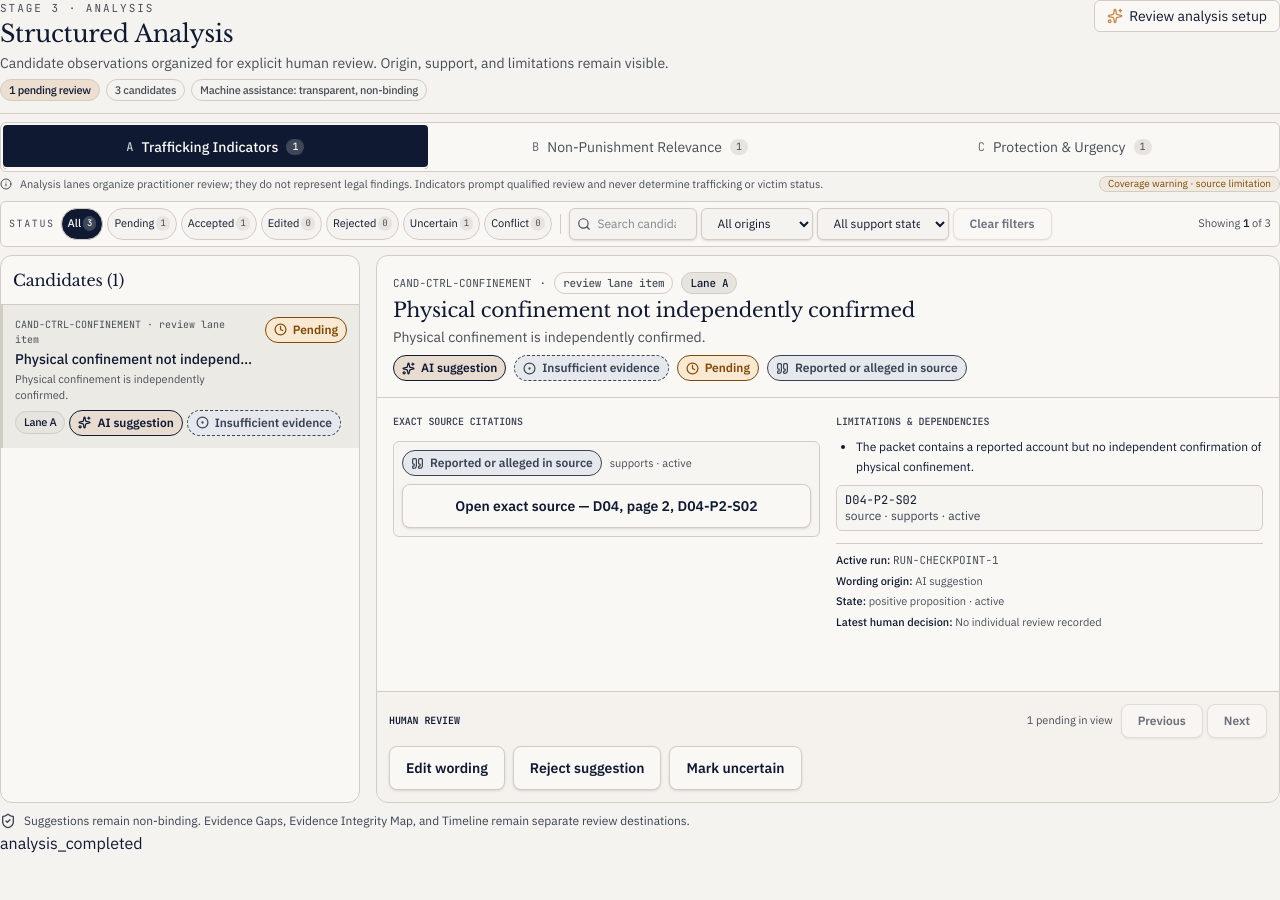
it: Phase 3 Structured Analysis › records an edit through the existing canonical review command
The image size is (1280, 900).
Click the button with aria-label "Select candidate CAND-CTRL-CONFINEMENT".
click(180, 376)  # box [1,304,359,448]
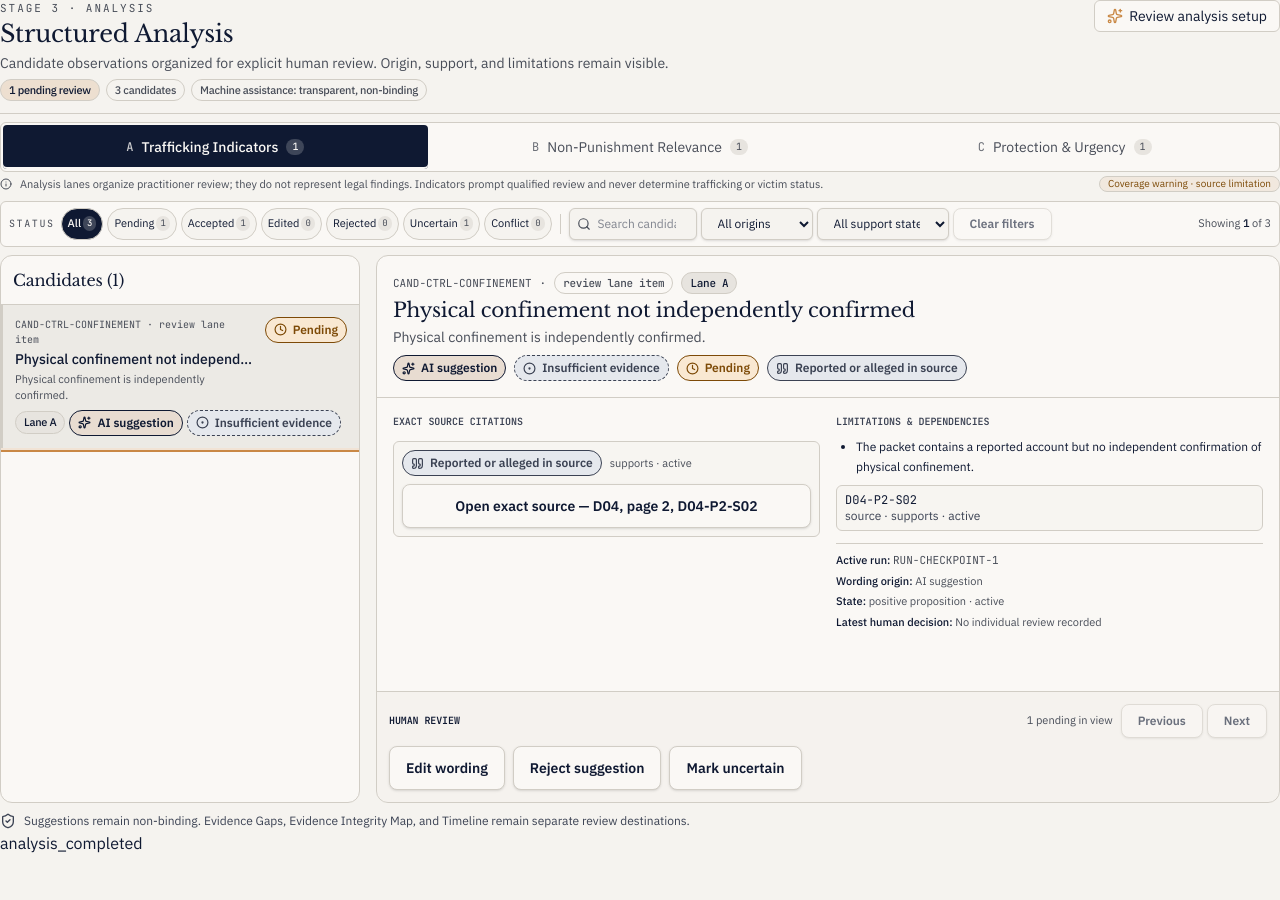
Click the button "Edit wording".
click(447, 768)  # box [389,746,505,790]
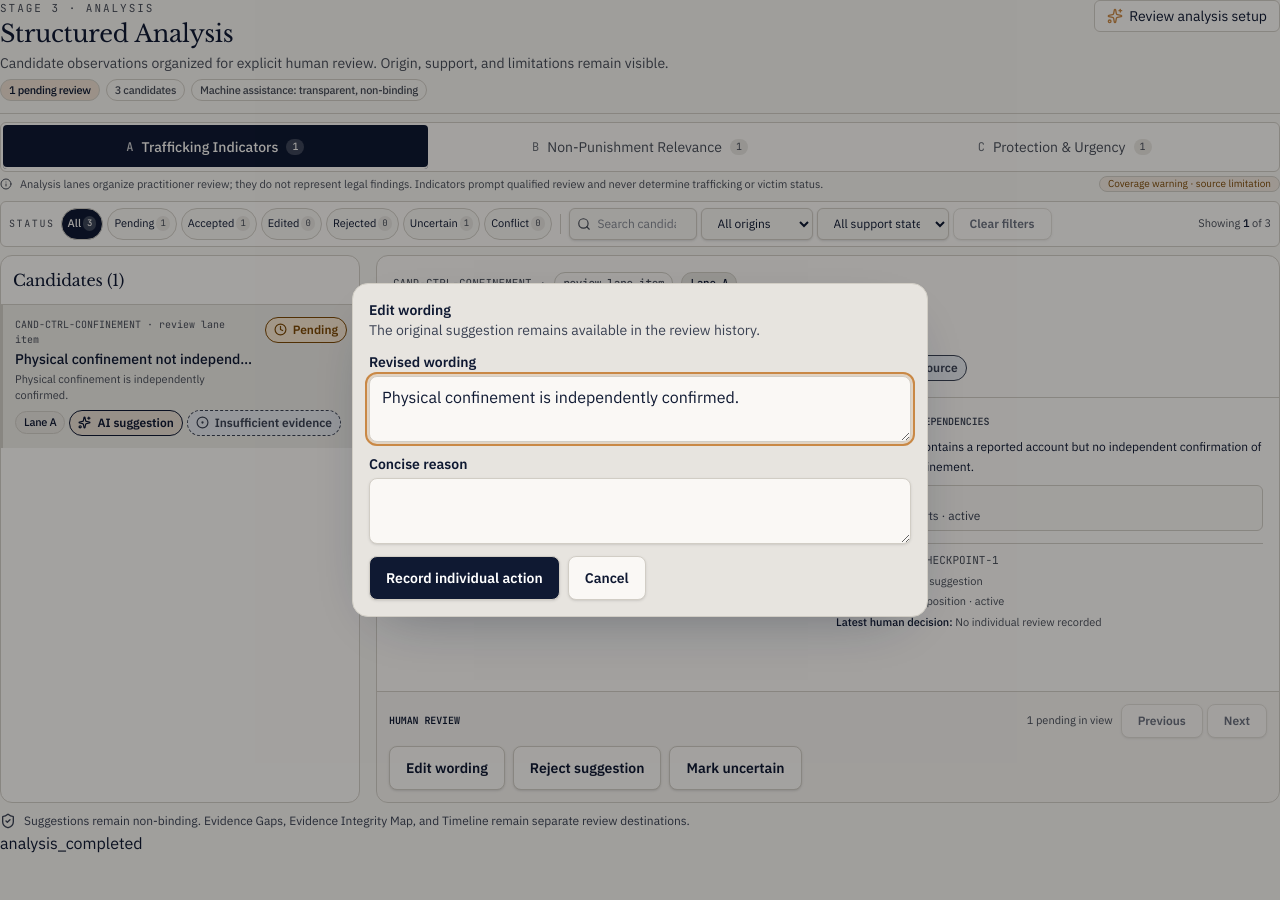
Replace the text in the text box labelled "Revised wording" with "The reviewed source reports physical confinement, without independent confirmation." at coordinates (640, 409), box [369,376,911,442]
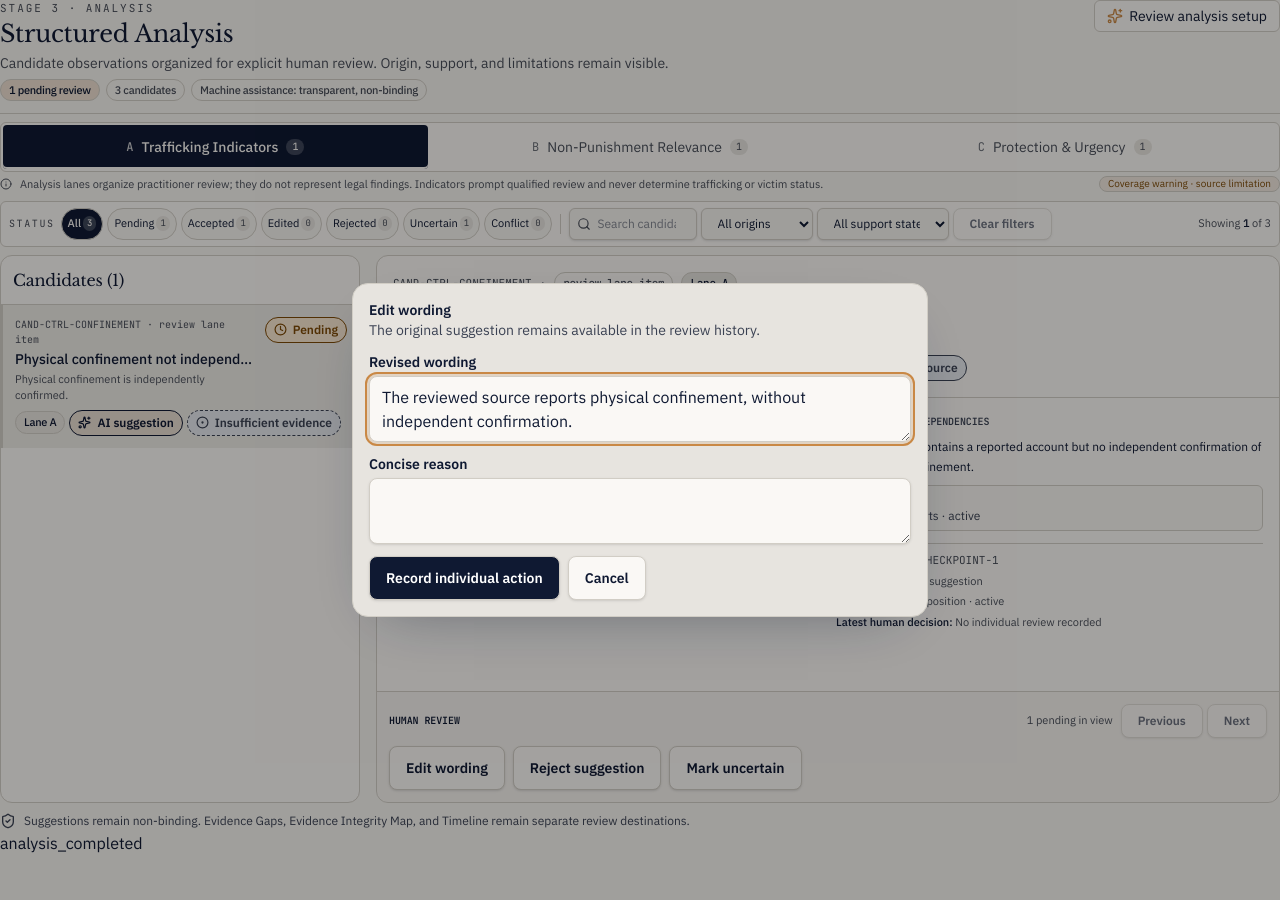
Type "Preserve the different canonical evidence natures." into the text box labelled "Concise reason".
click(640, 511); type("Preserve the different canonical evidence natures.")  # box [369,478,911,544]
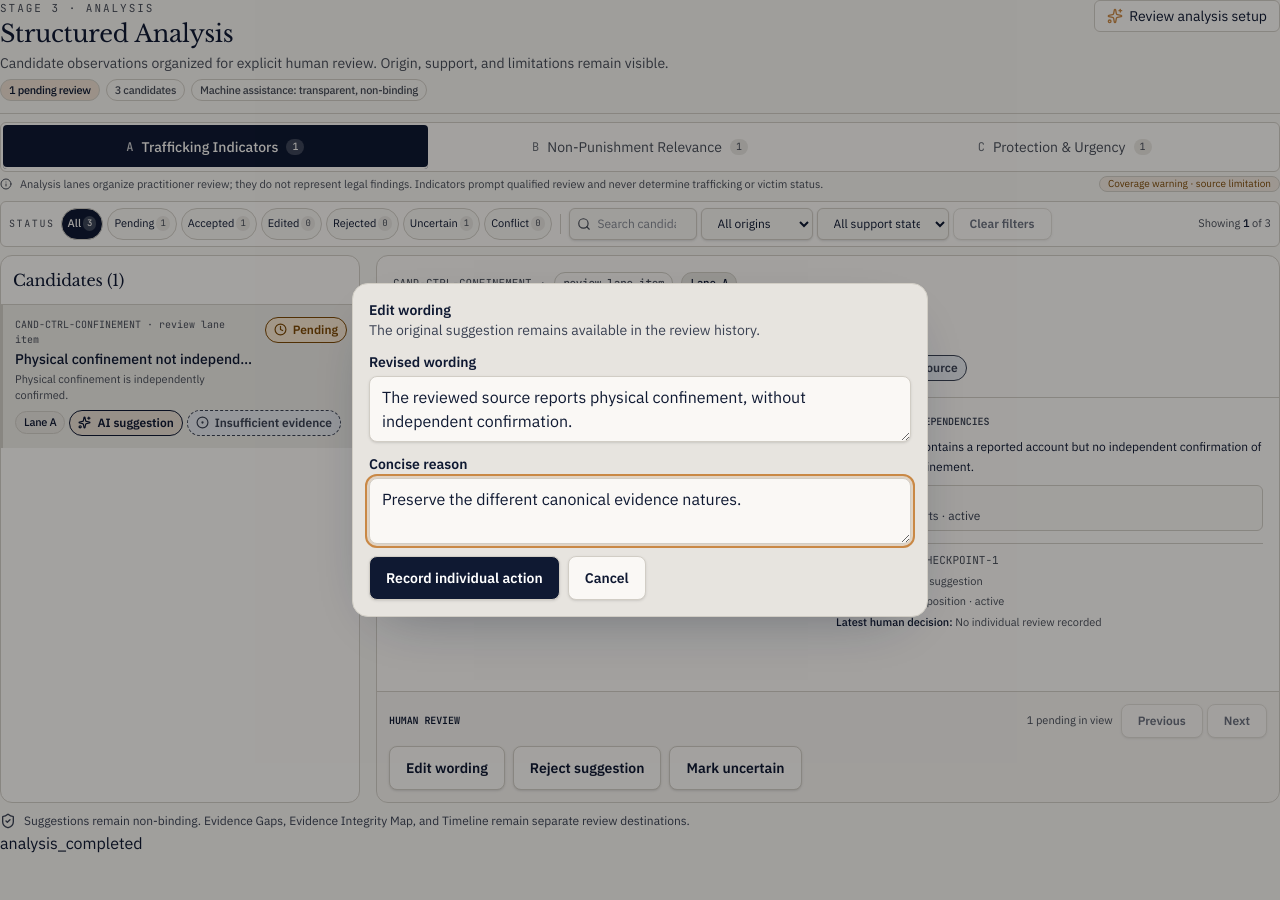
Click the button "Record individual action".
click(464, 578)  # box [369,556,560,600]
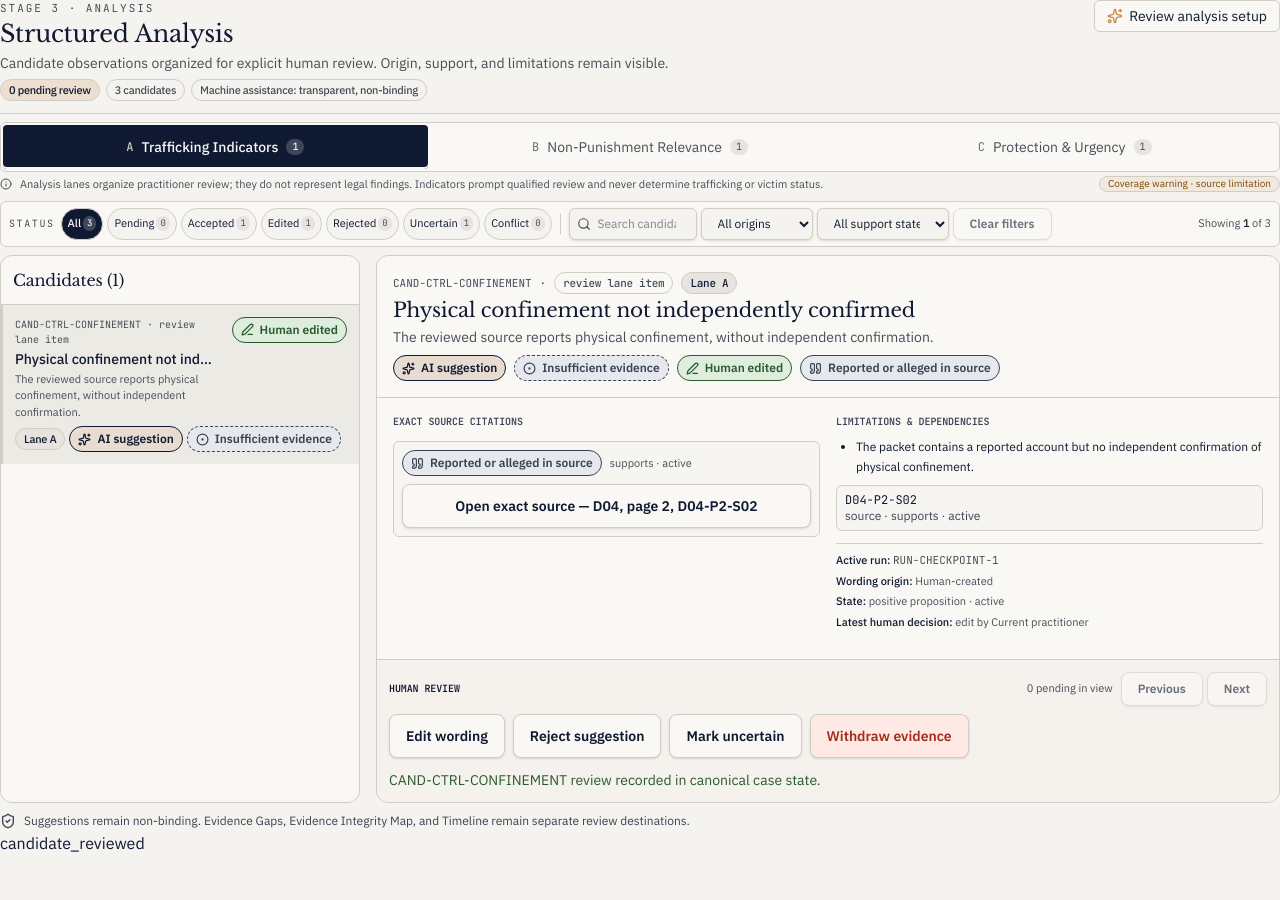
Now the element named "Review status: Human edited" is shown, box [677,355,792,381]
Now the text "CAND-CTRL-CONFINEMENT review recorded in canonical case state." is shown, box [389,770,821,788]
